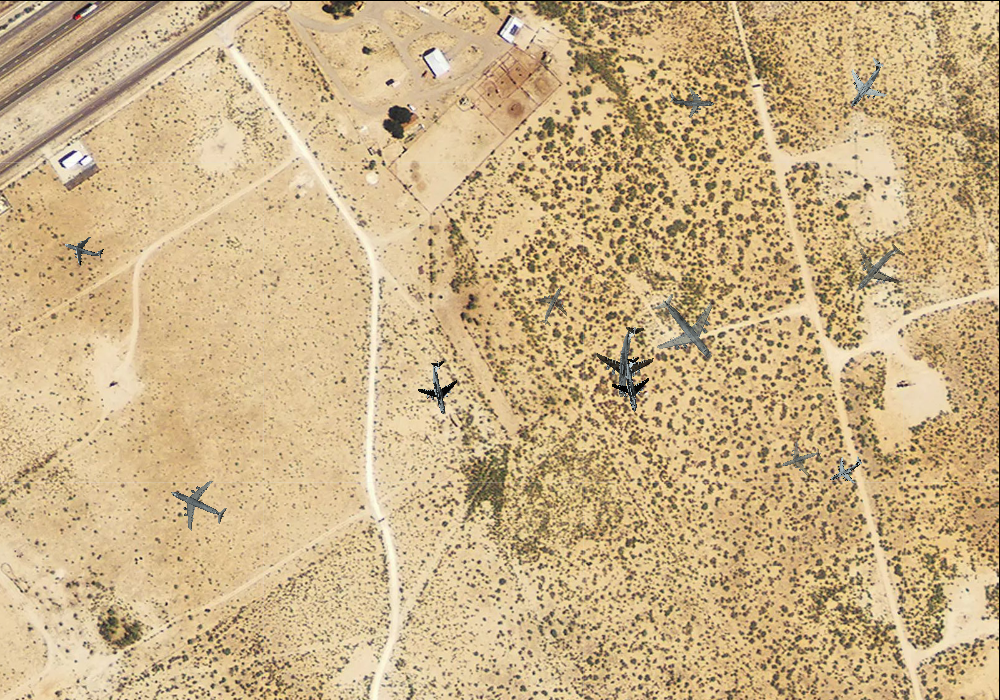plane: (635, 276, 738, 380), (838, 227, 920, 309), (591, 322, 664, 400), (159, 467, 235, 541), (830, 46, 902, 119), (410, 356, 469, 419), (605, 353, 661, 415), (526, 279, 579, 332), (775, 434, 827, 484), (58, 225, 108, 272), (822, 446, 870, 493), (669, 80, 715, 120)
